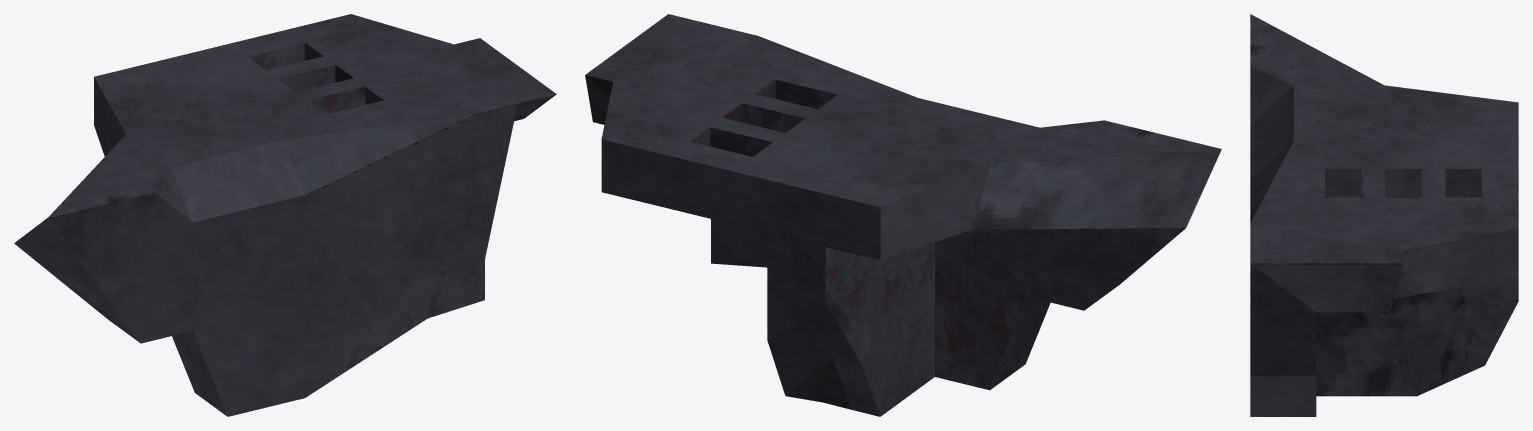
File: debry_02.glb
The picture shows the model from 3 angles, left to right: view 1: azimuth 30°, elevation 25°; view 2: azimuth 150°, elevation 25°; view 3: azimuth 270°, elevation 25°; orthographic projection. The views are drawn at different scales.
Visible parts, largest first — view 1: debry_02; view 2: debry_02; view 3: debry_02.
Part boxes in pixels (x1,y1,x2,y2): debry_02: [14, 14, 556, 416]; debry_02: [585, 14, 1221, 416]; debry_02: [1250, 14, 1518, 416].
Size of the model in its own units: 4.4 by 2 by 2.
Materials: 1 (1 with a texture image).
